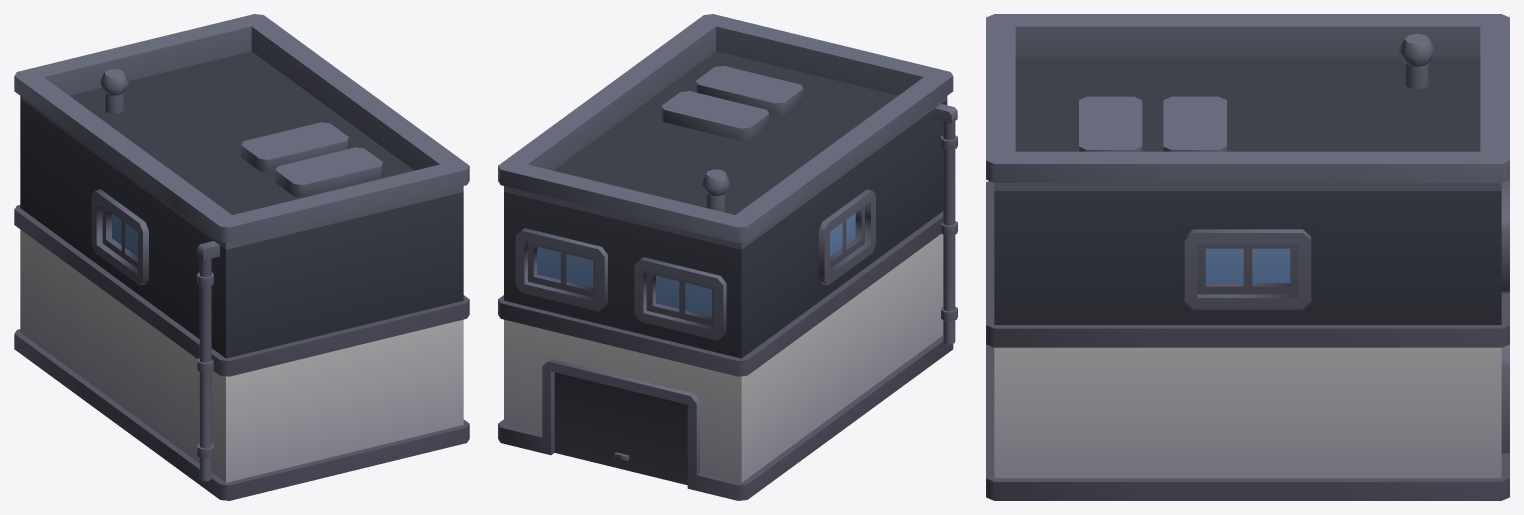
Rendered from industrial-building-o.glb.
The picture shows the model from 3 angles, left to right: view 1: azimuth 30°, elevation 25°; view 2: azimuth 150°, elevation 25°; view 3: azimuth 270°, elevation 25°; orthographic projection. The views are drawn at different scales.
Visible parts, largest first — view 1: building-o; view 2: building-o; view 3: building-o.
Boxes of the visible parts, box(x1,y1,x2,y2) form: building-o: box(14, 14, 469, 500); building-o: box(498, 14, 957, 500); building-o: box(986, 14, 1509, 500).
Bounding box in the file's own units: 0.8836 × 0.918 × 1.24.
